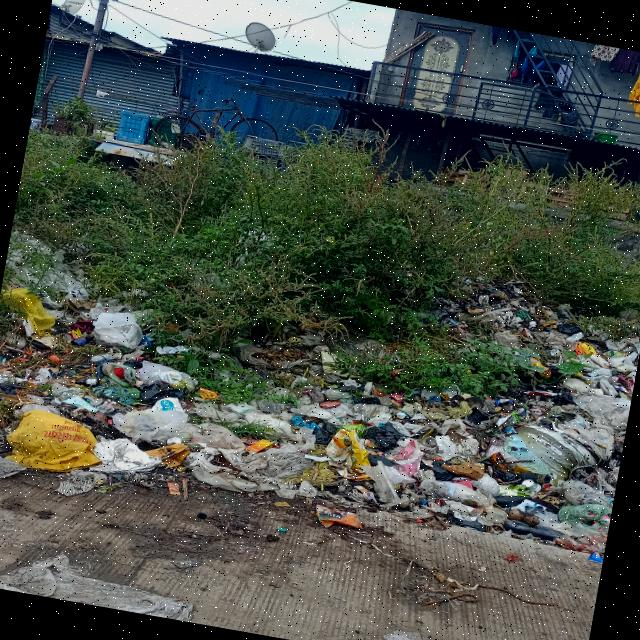garbage: (0, 289, 631, 584), (469, 265, 640, 405)
